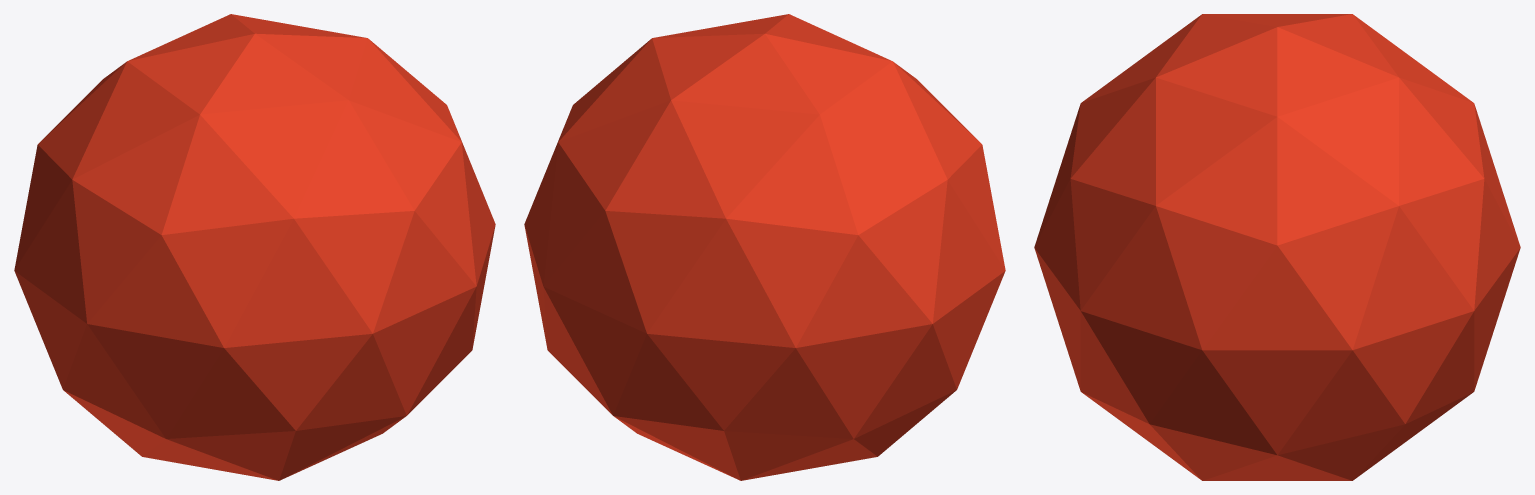
The model's file is test_click.gltf.
3 renders of one model, left to right at view 1: azimuth 30°, elevation 25°; view 2: azimuth 150°, elevation 25°; view 3: azimuth 270°, elevation 25°, orthographic. The views are drawn at different scales.
Parts seen in each view (by area): view 1: test_mesh_click; view 2: test_mesh_click; view 3: test_mesh_click.
Boxes of the visible parts, x1,y1,x2,y2 form: test_mesh_click: (14, 14, 495, 480); test_mesh_click: (524, 14, 1005, 480); test_mesh_click: (1034, 14, 1520, 480).
Size of what is drawn, in the model's own units: 2 by 2 by 2.
